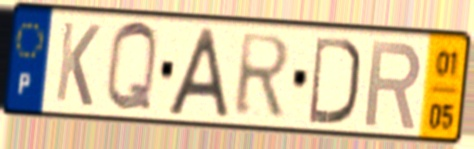A: (163, 25, 232, 122)
D: (307, 33, 362, 128)
K: (52, 18, 103, 110)
Q: (103, 18, 161, 117)
R: (362, 36, 425, 132), (232, 31, 295, 119)
